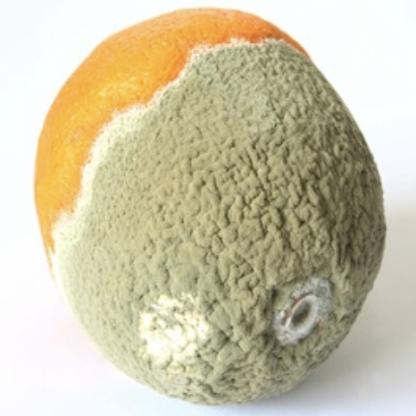rotten: (34, 11, 385, 403)
